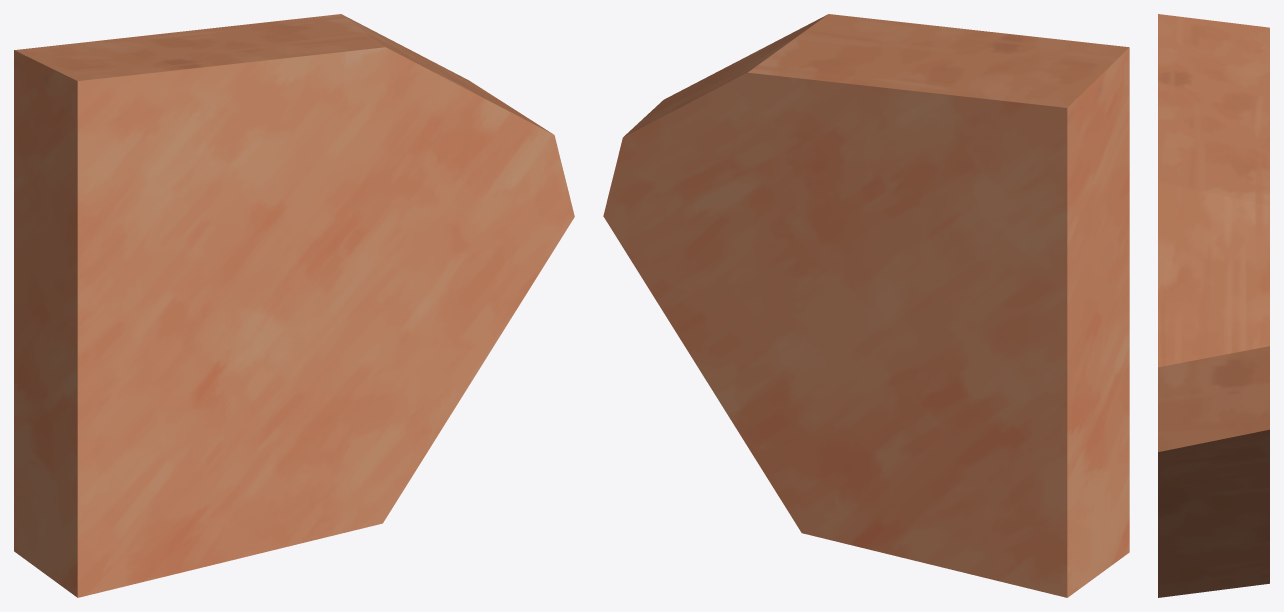
Rendered from wall_upper_window_s04.fbx.
3 renders of one model, left to right at view 1: azimuth 30°, elevation 25°; view 2: azimuth 150°, elevation 25°; view 3: azimuth 270°, elevation 25°, orthographic. The views are drawn at different scales.
Visible parts, largest first — view 1: wall_upper_window_s04; view 2: wall_upper_window_s04; view 3: wall_upper_window_s04.
Boxes of the visible parts, x1,y1,x2,y2 form: wall_upper_window_s04: [14, 14, 574, 597]; wall_upper_window_s04: [603, 14, 1129, 597]; wall_upper_window_s04: [1158, 14, 1269, 597].
Bounding box in the file's own units: 4.51 × 4.48 × 1.
